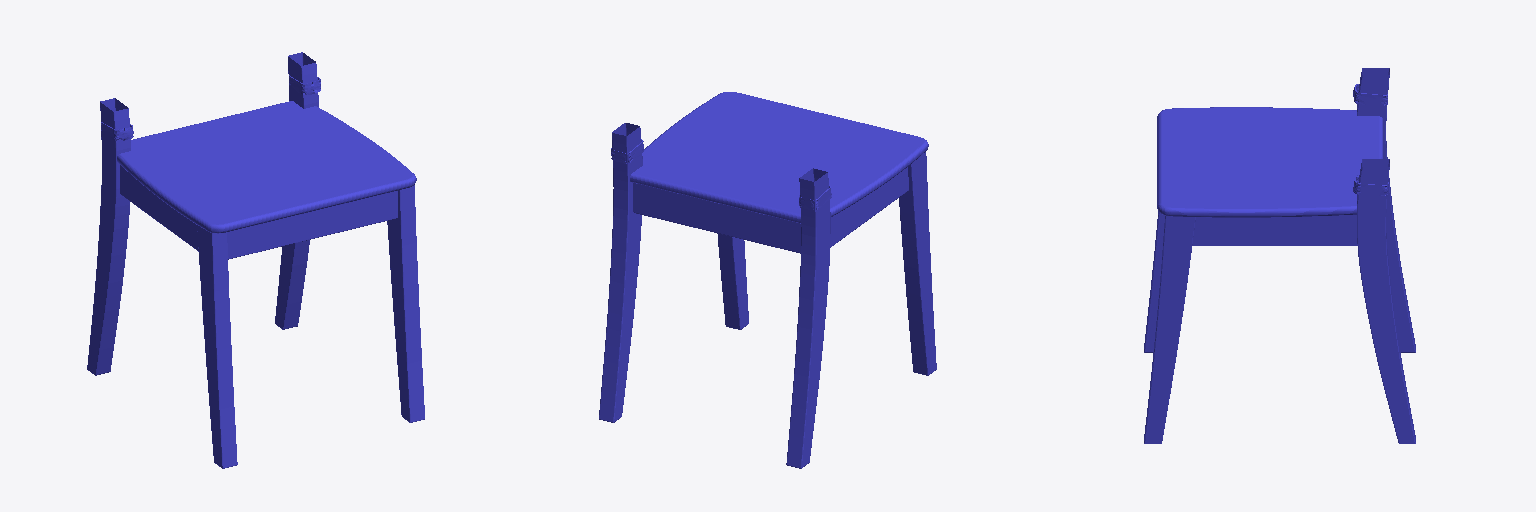
File: leg.obj
3 renders of one model, left to right at view 1: azimuth 30°, elevation 25°; view 2: azimuth 150°, elevation 25°; view 3: azimuth 270°, elevation 25°, orthographic.
Visible parts, largest first — view 1: leg; view 2: leg; view 3: leg.
Boxes of the visible parts, x1,y1,x2,y2 form: leg: [87, 52, 424, 468]; leg: [599, 92, 936, 468]; leg: [1144, 68, 1415, 443].
Size of the model in its own units: 0.6492 by 0.8023 by 0.7109.